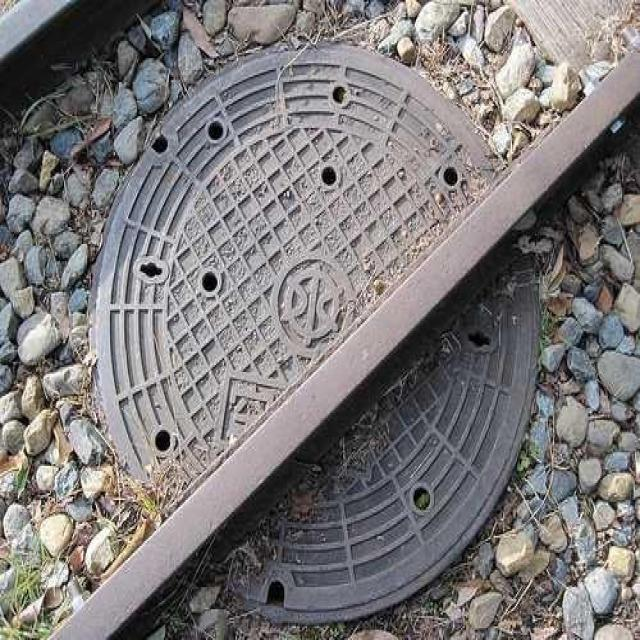manhole: (96, 44, 497, 488), (161, 292, 513, 623)
